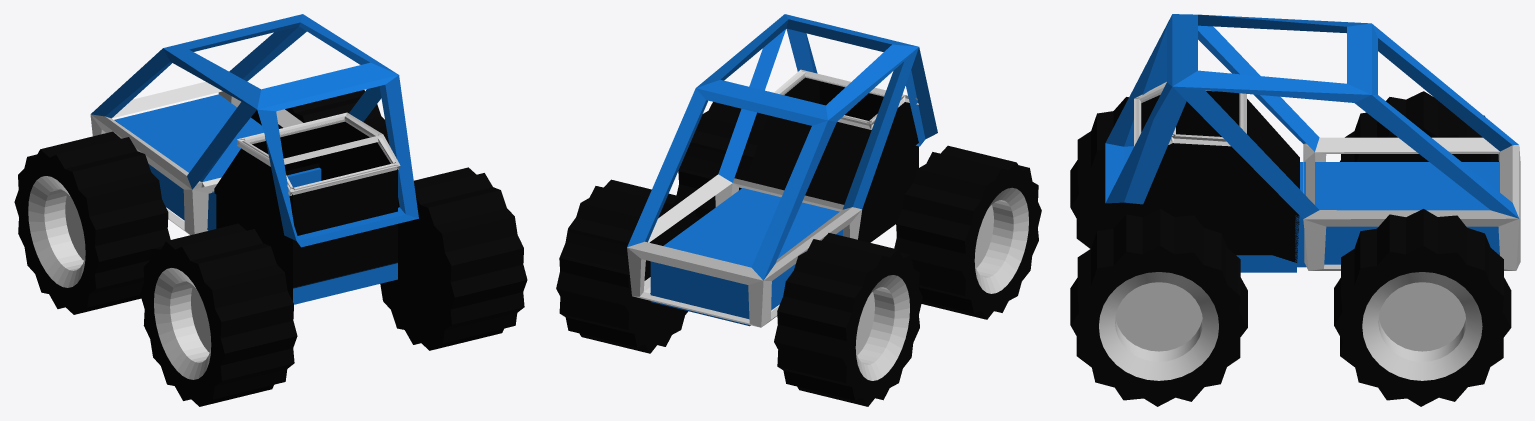
Rendered from BlueCar 2.fbx.
3 views of the same model, side by side, from view 1: azimuth 30°, elevation 25°; view 2: azimuth 150°, elevation 25°; view 3: azimuth 270°, elevation 25° (orthographic). The views are drawn at different scales.
Visible parts, largest first — view 1: Cube.002, WheelFrontRight, WheelRearRight, Cube.003, WheelFrontLeft, Cube.004, Cube.005, WheelRearLeft; view 2: Cube.002, WheelRearRight, WheelFrontRight, WheelRearLeft, Cube.003, Cube.004, WheelFrontLeft, Cube.005; view 3: Cube.002, WheelFrontLeft, WheelRearLeft, Cube.003, Cube.004, WheelFrontRight, WheelRearRight, Cube.005.
Part boxes in pixels (x1=…): Cube.002: x1=90, y1=14, x2=418, y2=247; WheelFrontRight: x1=140, y1=223, x2=297, y2=406; WheelRearRight: x1=14, y1=131, x2=170, y2=314; Cube.003: x1=214, y1=121, x2=397, y2=304; WheelFrontLeft: x1=380, y1=167, x2=527, y2=350; Cube.004: x1=114, y1=94, x2=321, y2=230; Cube.005: x1=236, y1=112, x2=400, y2=195; WheelRearLeft: x1=251, y1=90, x2=389, y2=144; Cube.002: x1=627, y1=14, x2=937, y2=327; WheelRearRight: x1=774, y1=233, x2=922, y2=406; WheelFrontRight: x1=894, y1=145, x2=1041, y2=319; WheelRearLeft: x1=556, y1=179, x2=700, y2=353; Cube.003: x1=745, y1=77, x2=918, y2=242; Cube.004: x1=650, y1=188, x2=842, y2=326; WheelFrontLeft: x1=676, y1=102, x2=767, y2=218; Cube.005: x1=774, y1=69, x2=918, y2=129; Cube.002: x1=1105, y1=14, x2=1520, y2=270; WheelFrontLeft: x1=1070, y1=208, x2=1247, y2=406; WheelRearLeft: x1=1334, y1=209, x2=1511, y2=406; Cube.003: x1=1135, y1=91, x2=1299, y2=272; Cube.004: x1=1295, y1=162, x2=1499, y2=267; WheelFrontRight: x1=1070, y1=97, x2=1134, y2=248; WheelRearRight: x1=1340, y1=91, x2=1498, y2=161; Cube.005: x1=1134, y1=82, x2=1246, y2=146.
Size of the model in its own units: 671 by 824 by 581.
1 material, 1 textured.
